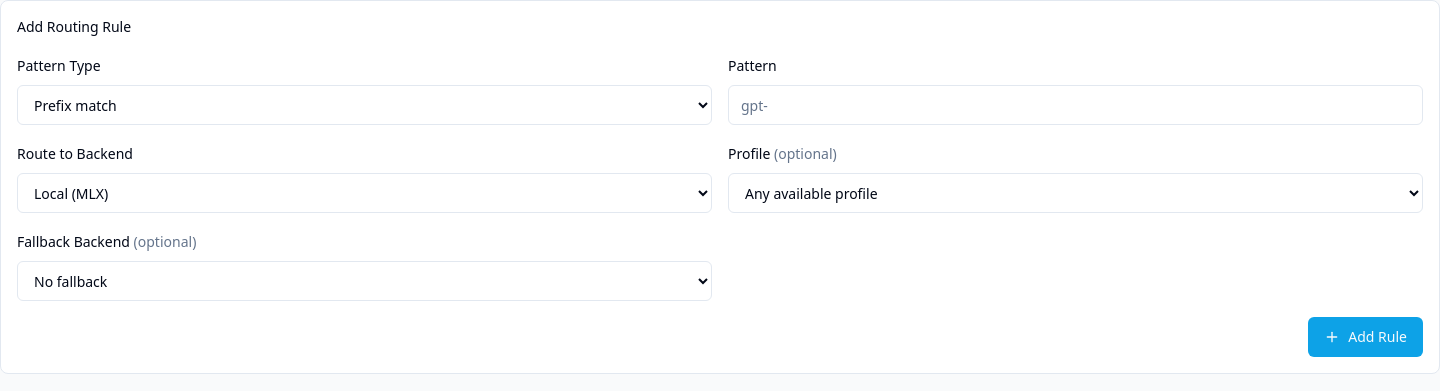
RuleForm › rendering › renders backend model input when cloud backend is selected
The width and height of the screenshot is (1440, 391).
Select "OpenAI" in the dropdown labelled "Route to Backend": (364, 193) [17,173,712,213]
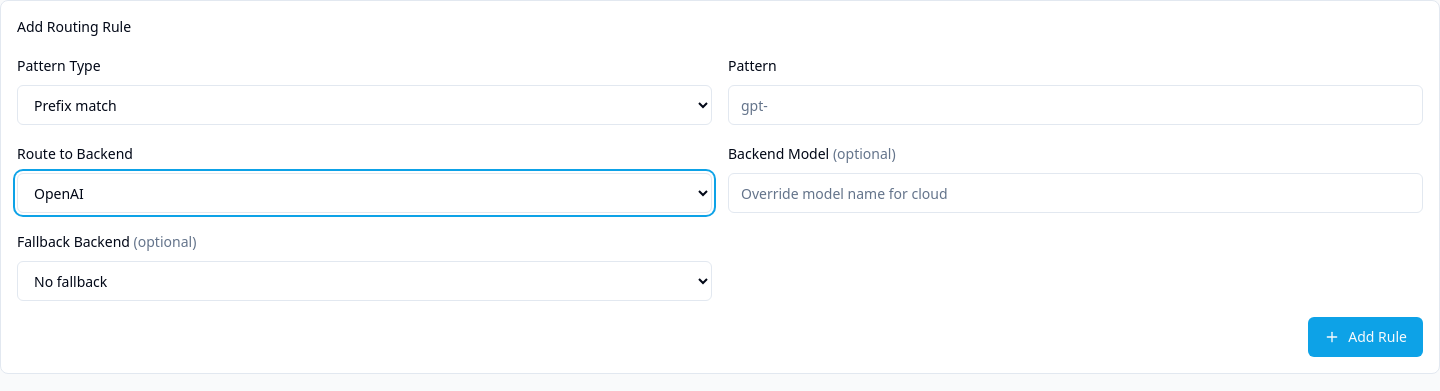
expect the dropdown labelled "Fallback Backend (optional)" is shown: met, box [17,261,712,301]
expect the field labelled "Backend Model (optional)" is shown: met, box [728,173,1423,213]
